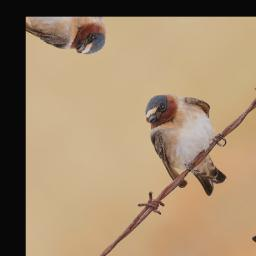Swallow: (119, 72, 256, 207)
